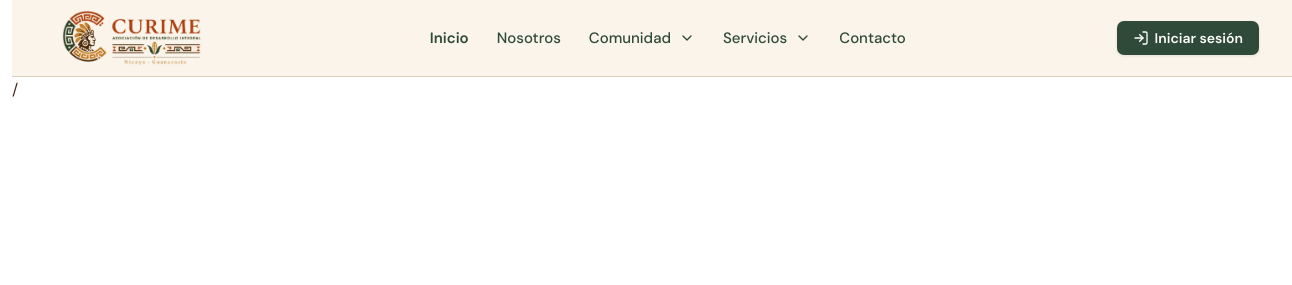
Test: PublicHeader navigation groups › opens and closes Comunidad with all its destinations
Click the button "Comunidad" at {"x": 642, "y": 38}, box [577,16,707,60]
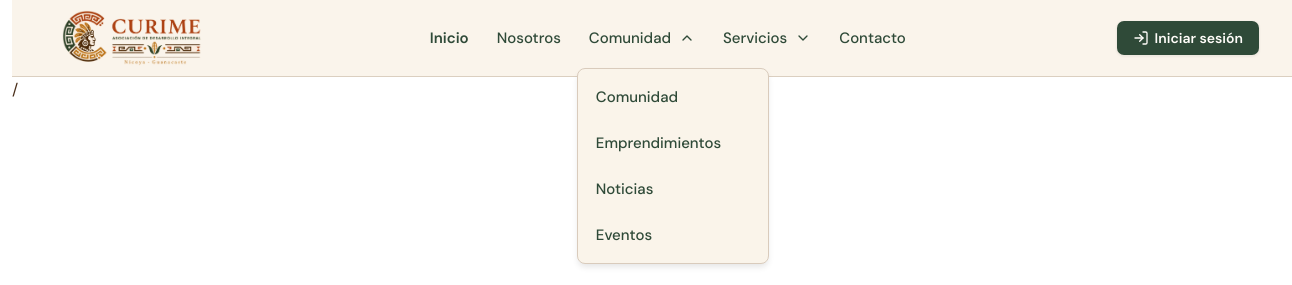
Result: the button "Comunidad" is expanded
Result: the link "Comunidad" is shown at [596,86,678,106]
Result: the link "Emprendimientos" is shown at [596,132,721,152]
Click the button "Comunidad" at {"x": 642, "y": 38}, box [577,16,707,60]
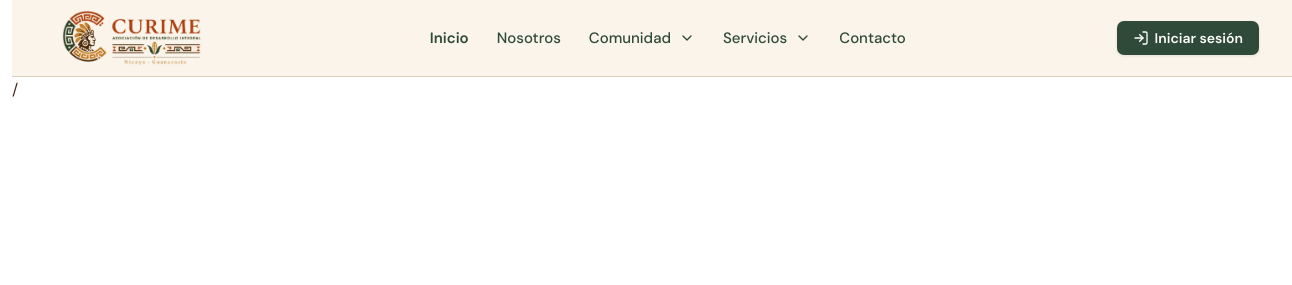
Result: the button "Comunidad" is collapsed at [577,16,707,60]
